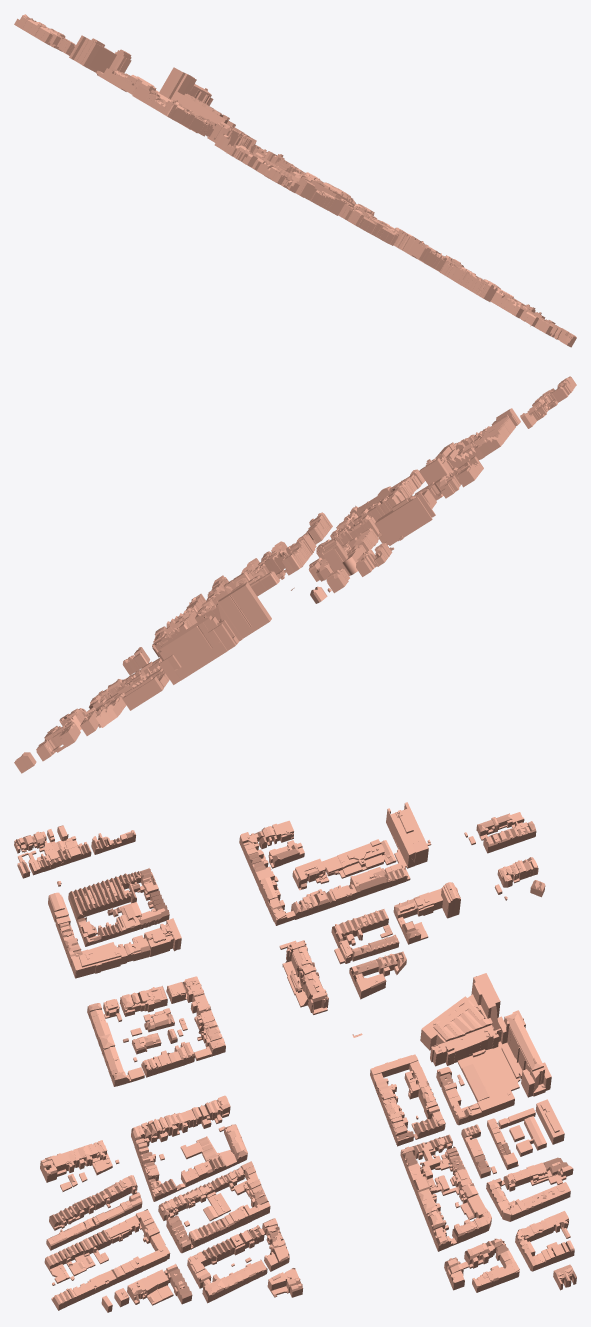
3 renders of one model, top to bottom at view 1: azimuth 30°, elevation 25°; view 2: azimuth 150°, elevation 25°; view 3: azimuth 270°, elevation 25°, orthographic. The views are drawn at different scales.
Size of the model in its own units: 1.79e+07 by 1.34e+07 by 2.12e+07.
